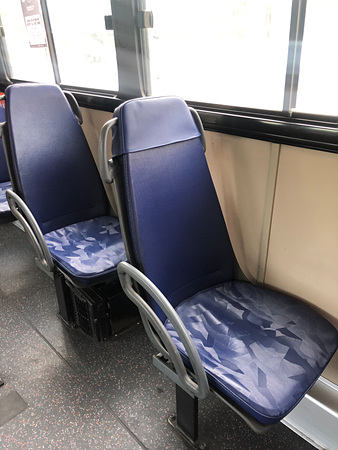seat: (104, 97, 336, 428)
